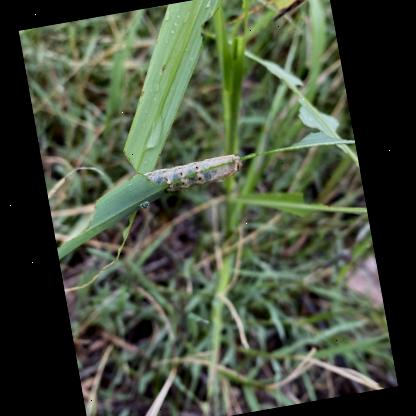Fall Armyworm Larvae: (138, 148, 252, 198)
